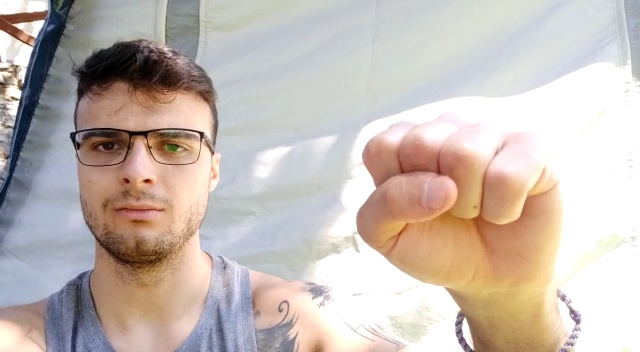Fist: (348, 109, 567, 296)
